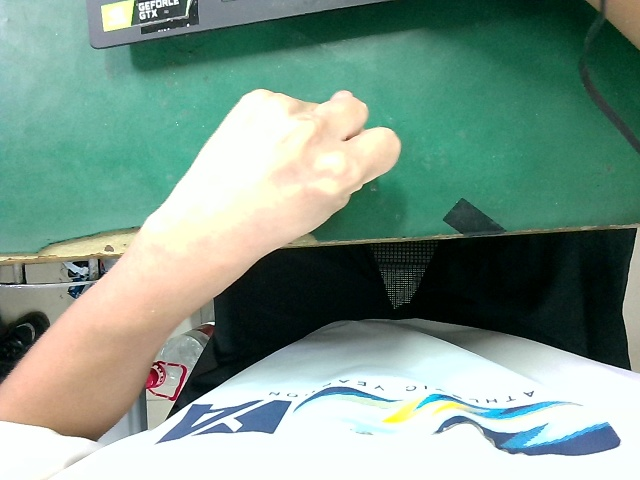stone: (128, 74, 422, 297)
